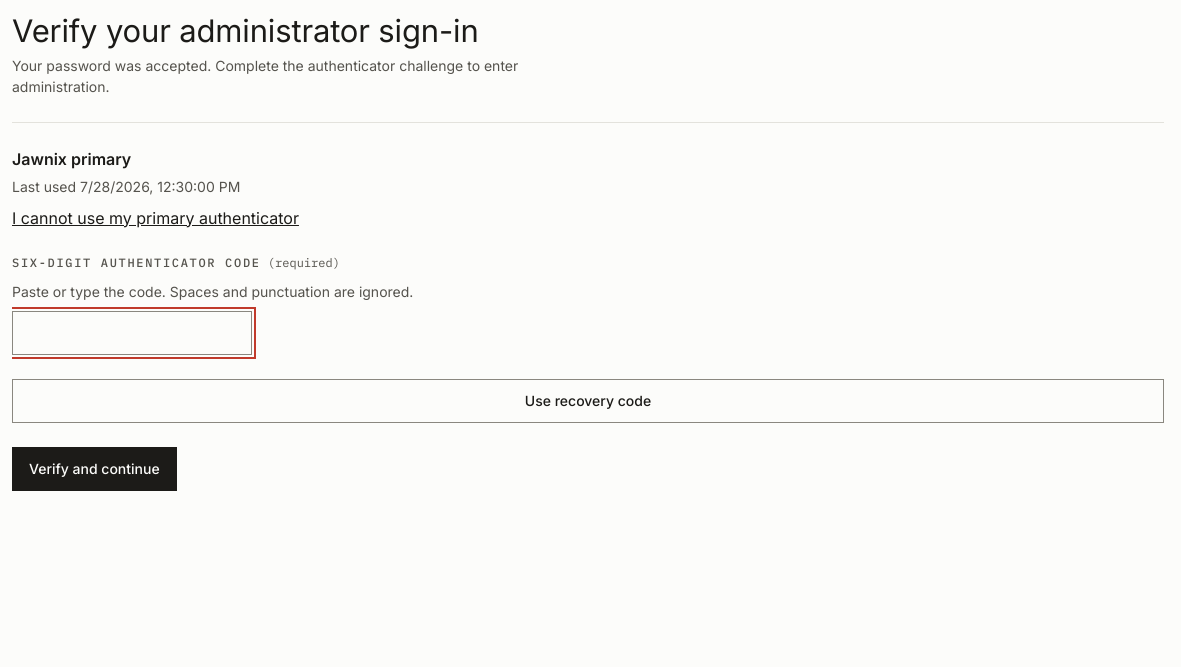
Scenario: administrator MFA › preselects the primary and reveals the backup on request
Check: the text "Jawnix primary" is shown, box top-left (12, 149), bottom-right (131, 169)
Check: the text "Jawnix backup" is not shown
Click the button "I cannot use my primary authenticator" at (156, 218), box top-left (12, 206), bottom-right (299, 230)
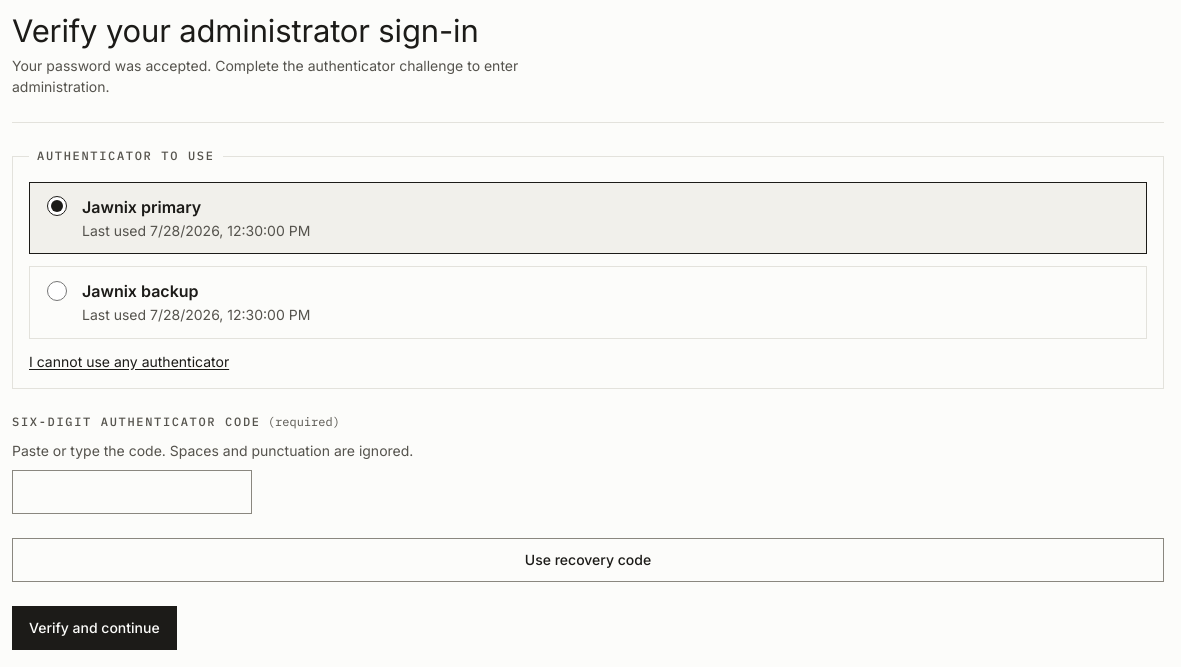
Check: the number of radio buttons is 2, box top-left (47, 196), bottom-right (67, 216); top-left (47, 281), bottom-right (67, 301)
Check: the radio button labelled "Jawnix primary Last used 7/28/2026, 12:30:00 PM" is checked, box top-left (47, 196), bottom-right (67, 216)
Check: the text "Jawnix backup" is shown, box top-left (82, 281), bottom-right (198, 301)
